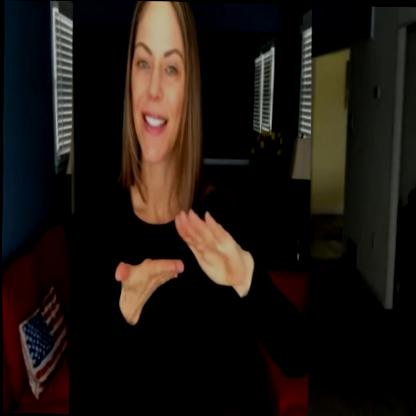NiceToMeetYou: (65, 0, 313, 416)
